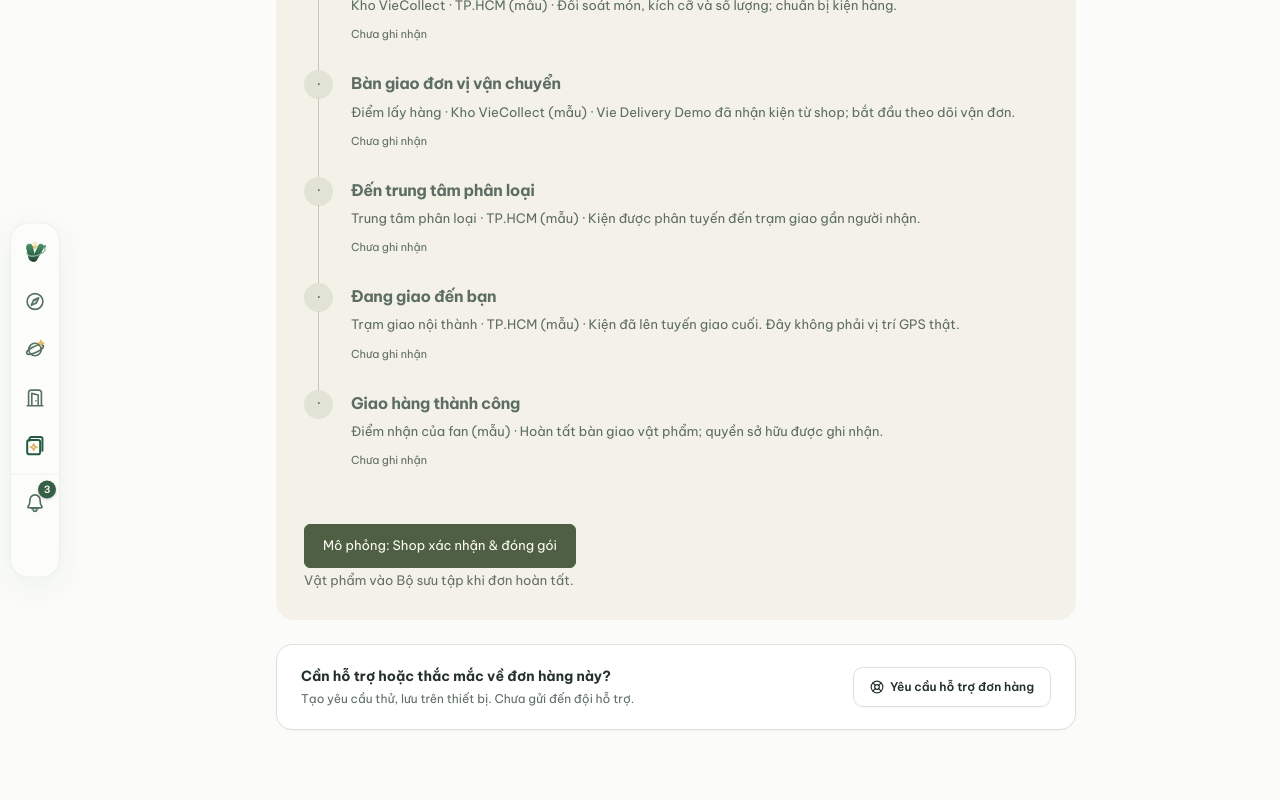
Test: T09 Acceptance: Support Requests & Recovery Without Auto-Grant › 2. UI Integration & End-to-End Journeys › 2. Order Support Journey: open support from OrderDetailView → shows order context and case timeline
(page scrolled)
// Click "Yêu cầu hỗ trợ đơn hàng"
Click the button with test id "open-order-support-btn". click: {"x": 952, "y": 687}
box: [853, 667, 1051, 707]
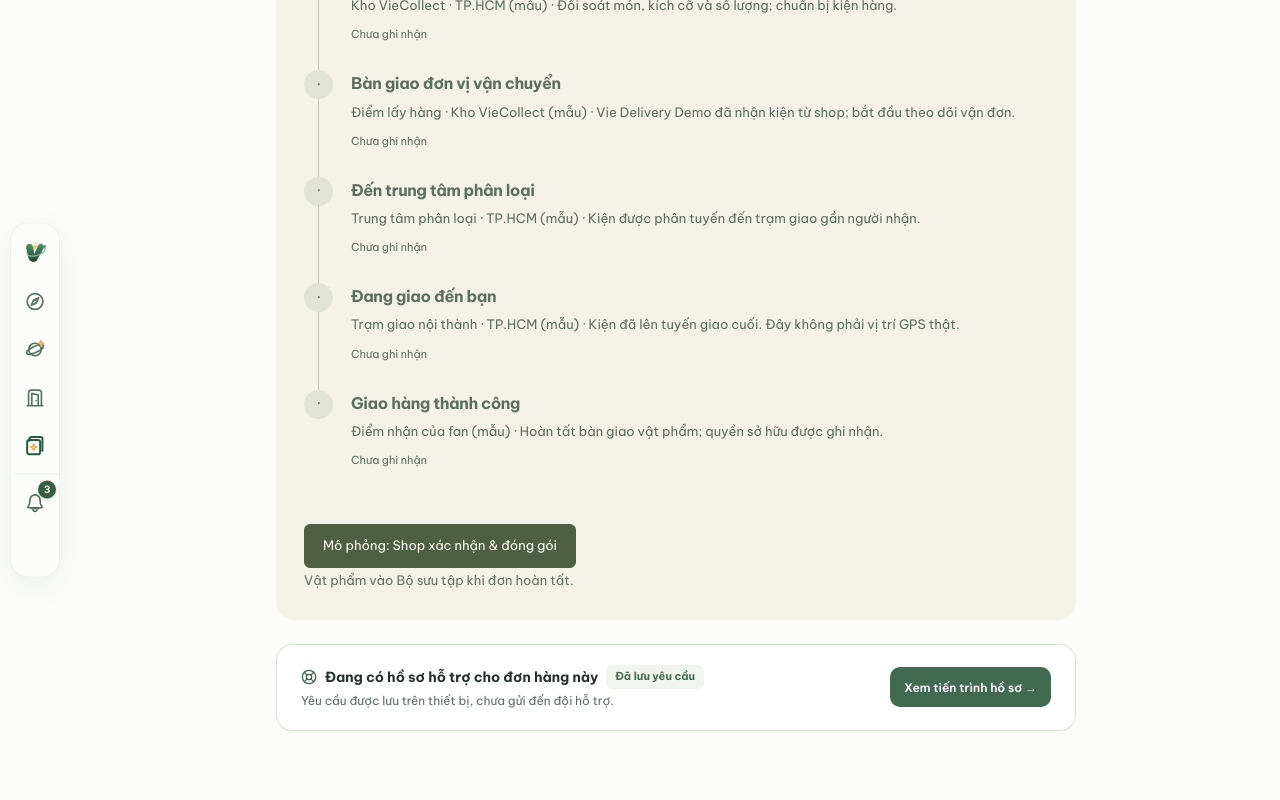
Result: the element with test id "order-active-case-card" is shown at [301, 665, 1051, 710]
Click the link with test id "view-order-support-case-btn". click: {"x": 970, "y": 688}
box: [890, 668, 1051, 708]
(page scrolled)
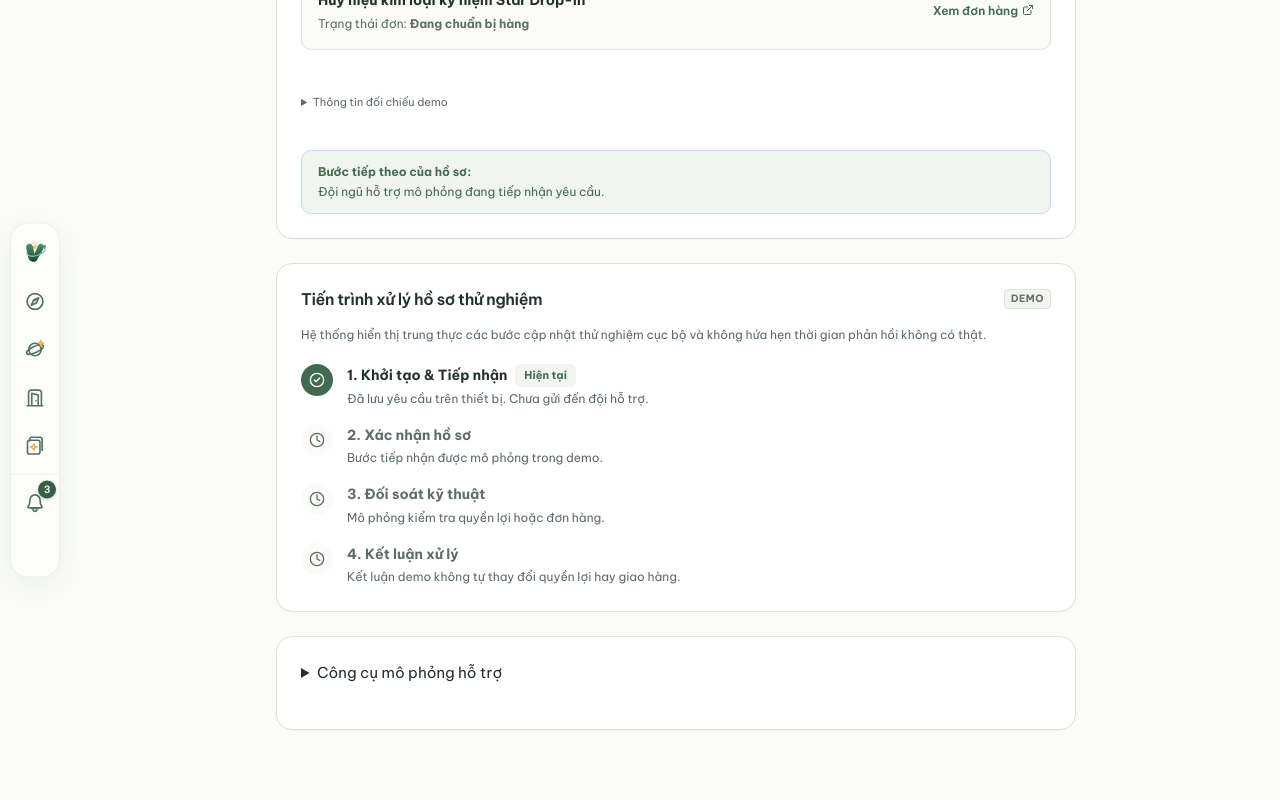
Result: the text "Trạng thái đơn: Đang chuẩn bị hàng" is shown at [318, 16, 529, 31]
Result: the text "Đang chuẩn bị hàng" is shown at [410, 16, 529, 31]
